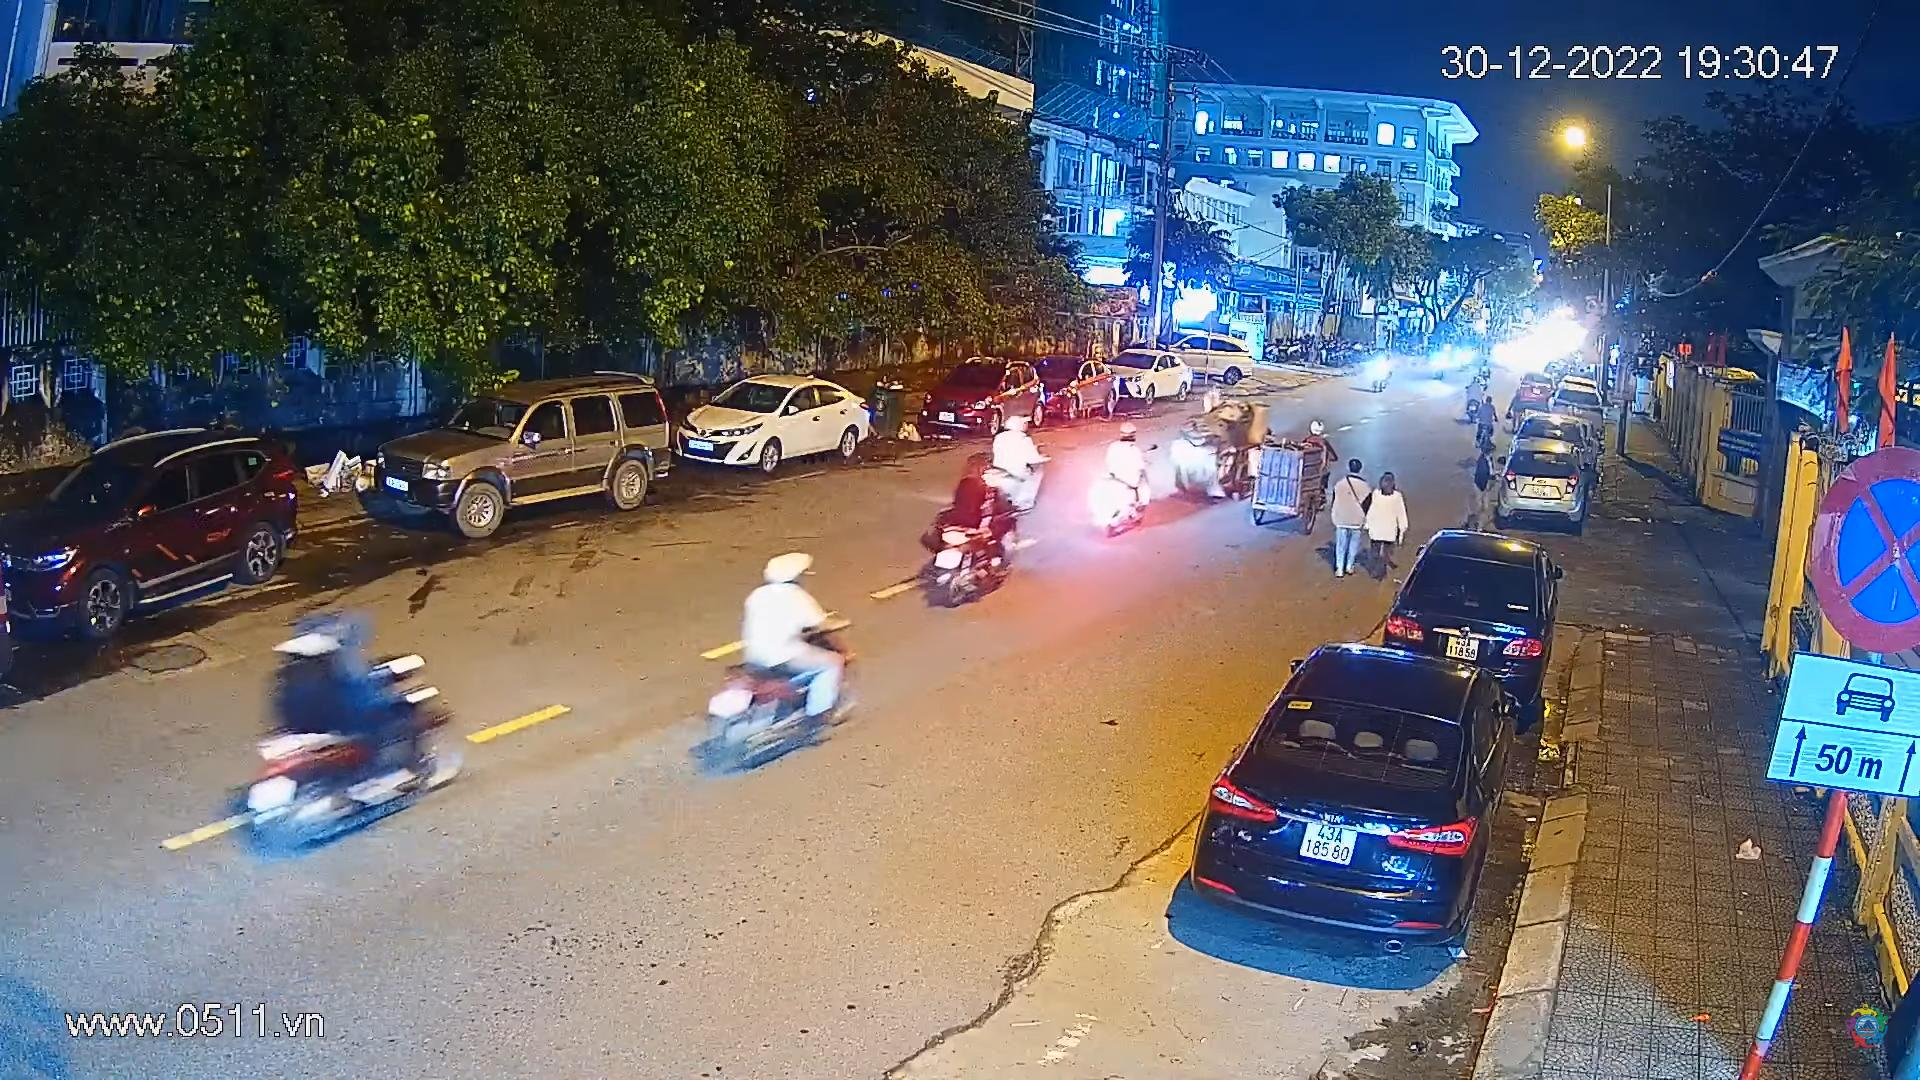car: (1188, 634, 1503, 953), (7, 421, 301, 645), (373, 360, 671, 531), (1387, 525, 1575, 707), (678, 372, 870, 473), (920, 352, 1040, 440), (1487, 434, 1590, 525), (1021, 347, 1126, 419), (1100, 348, 1197, 400), (1158, 324, 1250, 377), (1540, 384, 1606, 426), (1516, 367, 1556, 413)
motorcycle: (216, 600, 464, 865), (679, 535, 884, 812), (897, 444, 1043, 625), (1077, 421, 1160, 538), (984, 415, 1055, 517), (1361, 345, 1402, 402), (1457, 373, 1489, 419)
rudimentary_vehicle: (1247, 415, 1344, 537), (1172, 396, 1265, 498)
